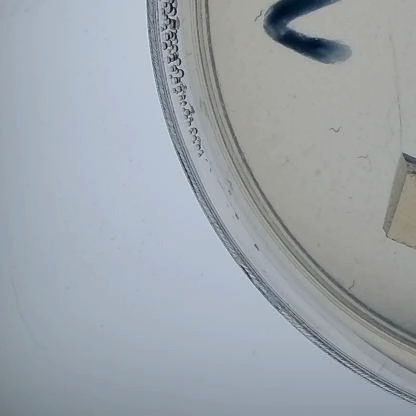worm: (352, 152, 371, 164), (250, 8, 264, 24), (324, 124, 344, 135)
